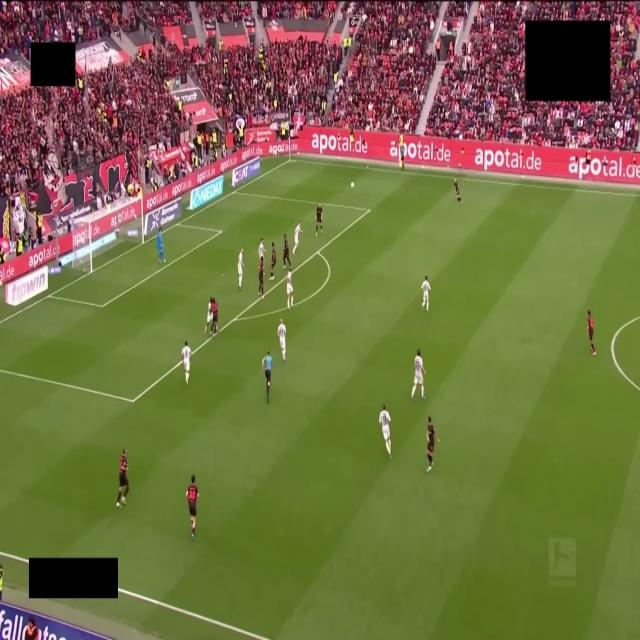ball: (351, 182, 354, 187)
player: (186, 475, 199, 540), (427, 416, 439, 471), (117, 448, 128, 507), (411, 350, 424, 399), (379, 405, 391, 458), (181, 342, 191, 384), (277, 320, 286, 361), (421, 276, 431, 312), (588, 311, 596, 356), (209, 297, 218, 335), (293, 222, 302, 255), (204, 298, 212, 335), (157, 226, 165, 263), (286, 268, 293, 309), (283, 234, 290, 268), (270, 242, 276, 280), (316, 203, 323, 235), (259, 257, 264, 299), (238, 248, 243, 290), (454, 178, 462, 204), (259, 239, 264, 261)
referee: (262, 352, 272, 403)
